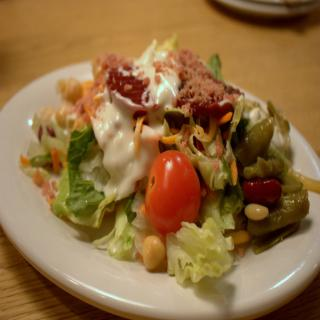tomato: (144, 151, 202, 231)
